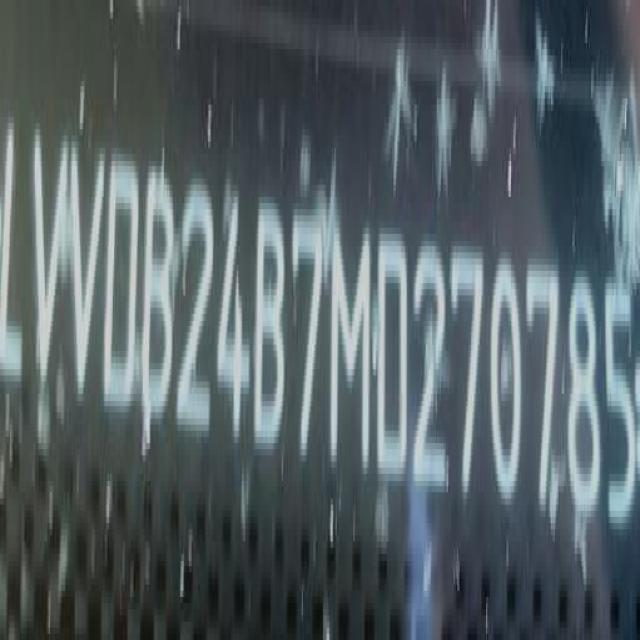0: (491, 247, 524, 509)
2: (179, 169, 215, 446), (414, 235, 449, 496)
4: (216, 182, 251, 451)
5: (606, 274, 639, 540)
7: (293, 202, 330, 473), (453, 238, 486, 506), (527, 248, 560, 515)
8: (567, 268, 602, 534)
B: (254, 192, 289, 458), (143, 162, 174, 419)
D: (106, 141, 142, 420), (377, 223, 412, 490)
L: (0, 105, 27, 407)
M: (329, 208, 374, 482)
V: (68, 139, 106, 408), (32, 134, 68, 396)
